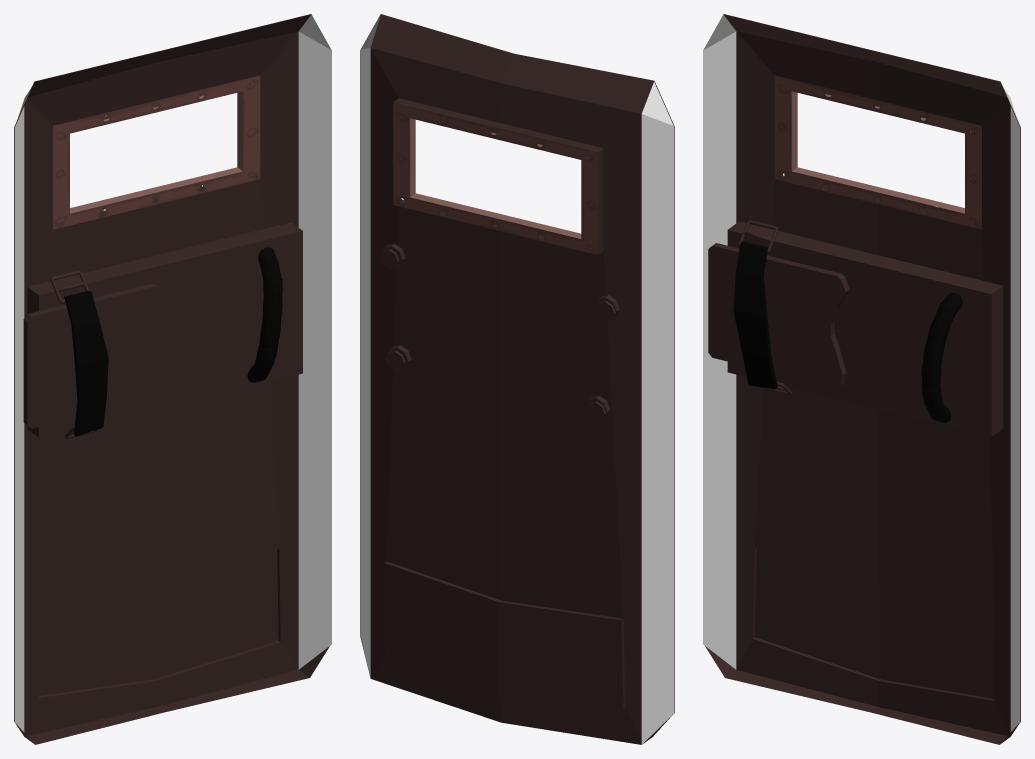
3 views of the same model, side by side, from view 1: azimuth 30°, elevation 25°; view 2: azimuth 150°, elevation 25°; view 3: azimuth 330°, elevation 25° (orthographic).
Visible parts, largest first — view 1: 盾牌; view 2: 盾牌; view 3: 盾牌.
Part boxes in pixels (<box>): 盾牌: <box>14,14,331,744</box>; 盾牌: <box>360,14,674,744</box>; 盾牌: <box>703,14,1020,744</box>.
Bounding box in the file's own units: 195 × 394 × 43.89.
5 materials, 1 textured.
